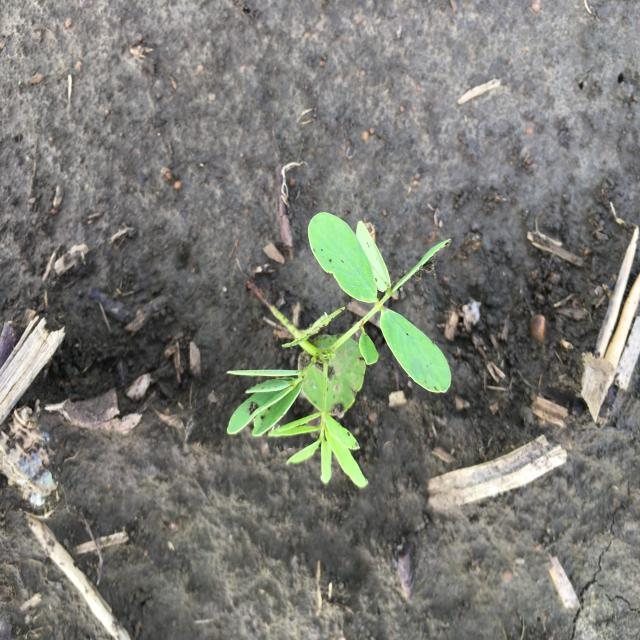Sicklepod: (224, 212, 453, 488)
